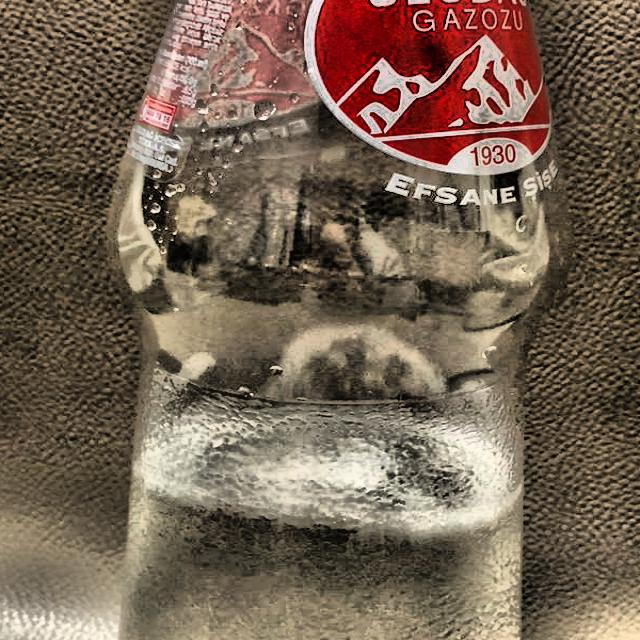plastic: (94, 0, 580, 640)
